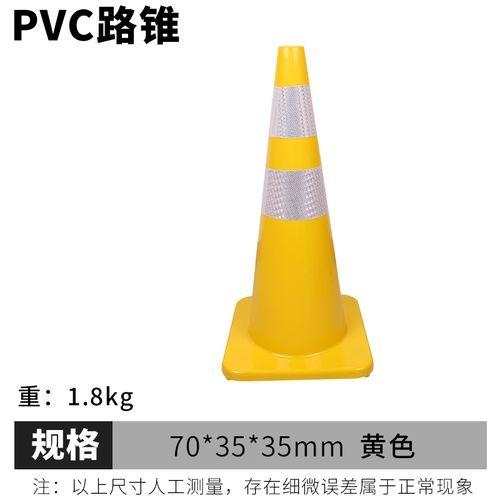cone_barrel: (231, 54, 362, 371)
